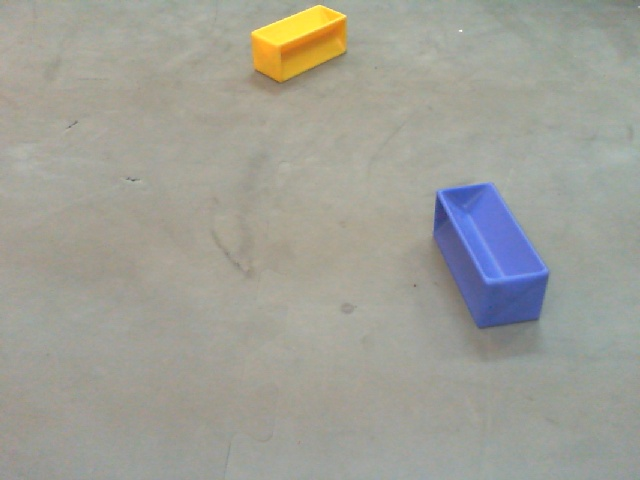BlueSample: (431, 176, 551, 336)
YellowSample: (242, 3, 355, 85)
